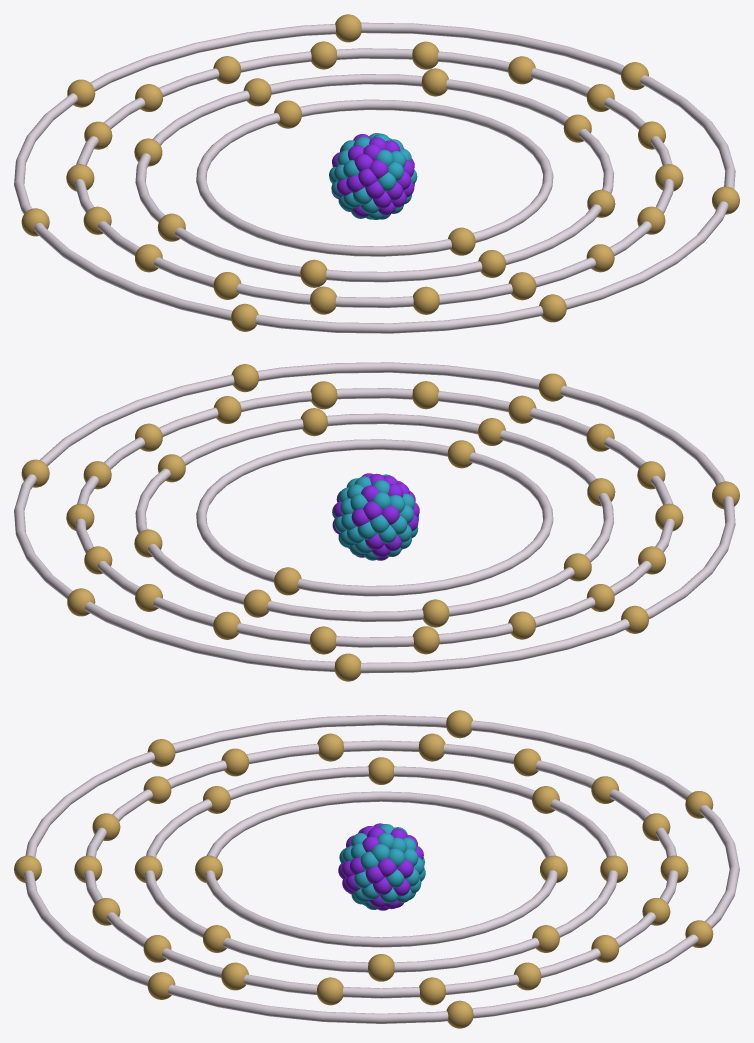
File: bromo.glb
The picture shows the model from 3 angles, top to bottom: view 1: azimuth 30°, elevation 25°; view 2: azimuth 150°, elevation 25°; view 3: azimuth 270°, elevation 25°; orthographic projection.
Parts seen in each view (by area): view 1: Orbita_4, Orbita_3, Orbita_2, Orbita_1, Nucleo_Completo, Eletron_C3_18, Eletron_C4_4, Eletron_C3_17, Eletron_C2_8, Eletron_C3_8, Eletron_C2_4, Eletron_C3_9 (+28 smaller); view 2: Orbita_4, Orbita_3, Orbita_2, Orbita_1, Nucleo_Completo, Eletron_C2_6, Eletron_C3_3, Eletron_C4_5, Eletron_C3_12, Eletron_C3_11, Eletron_C3_2, Eletron_C4_2 (+28 smaller); view 3: Orbita_4, Orbita_3, Orbita_2, Orbita_1, Nucleo_Completo, Eletron_C2_3, Eletron_C3_6, Eletron_C3_5, Eletron_C4_3, Eletron_C3_14, Eletron_C4_6, Eletron_C2_7 (+25 smaller).
Boxes of the visible parts, bbox=[...] form: Orbita_4: bbox=[14, 22, 735, 333]; Orbita_3: bbox=[74, 48, 673, 307]; Orbita_2: bbox=[135, 74, 614, 282]; Orbita_1: bbox=[196, 99, 553, 256]; Nucleo_Completo: bbox=[329, 133, 417, 219]; Eletron_C3_18: bbox=[413, 286, 439, 314]; Eletron_C4_4: bbox=[335, 14, 361, 42]; Eletron_C3_17: bbox=[310, 286, 336, 314]; Eletron_C2_8: bbox=[300, 259, 327, 287]; Eletron_C3_8: bbox=[412, 41, 439, 69]; Eletron_C2_4: bbox=[421, 68, 448, 96]; Eletron_C3_9: bbox=[310, 41, 337, 69]; Orbita_4: bbox=[14, 362, 735, 673]; Orbita_3: bbox=[75, 388, 674, 647]; Orbita_2: bbox=[135, 413, 614, 621]; Orbita_1: bbox=[196, 439, 553, 596]; Nucleo_Completo: bbox=[332, 473, 419, 560]; Eletron_C2_6: bbox=[422, 599, 449, 627]; Eletron_C3_3: bbox=[310, 381, 337, 409]; Eletron_C4_5: bbox=[334, 653, 361, 681]; Eletron_C3_12: bbox=[412, 626, 439, 654]; Eletron_C3_11: bbox=[310, 626, 336, 654]; Eletron_C3_2: bbox=[412, 381, 439, 409]; Eletron_C4_2: bbox=[231, 364, 258, 392]; Orbita_4: bbox=[24, 715, 739, 1023]; Orbita_3: bbox=[84, 740, 678, 998]; Orbita_2: bbox=[144, 766, 618, 972]; Orbita_1: bbox=[205, 791, 557, 947]; Nucleo_Completo: bbox=[338, 823, 425, 910]; Eletron_C2_3: bbox=[368, 954, 394, 981]; Eletron_C3_6: bbox=[419, 977, 445, 1005]; Eletron_C3_5: bbox=[316, 977, 343, 1005]; Eletron_C4_3: bbox=[446, 1000, 473, 1028]; Eletron_C3_14: bbox=[418, 733, 445, 761]; Eletron_C4_6: bbox=[446, 710, 472, 738]; Eletron_C2_7: bbox=[368, 757, 394, 784].
Bounding box in the file's own units: 4.16 × 0.5071 × 4.21.
